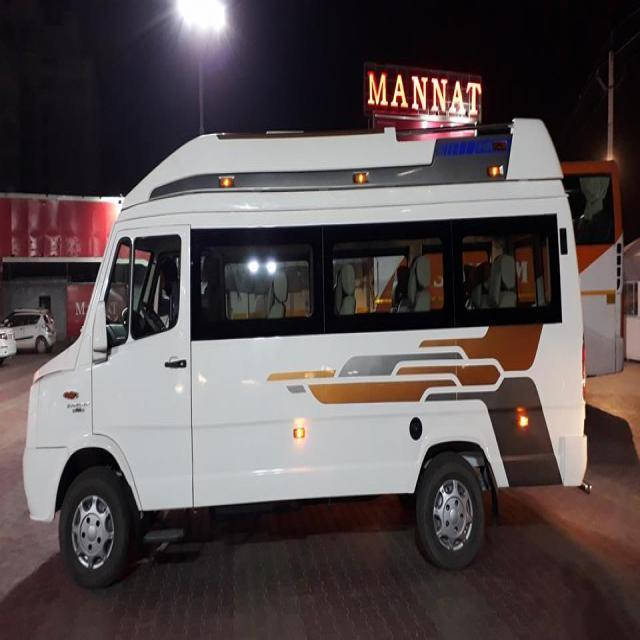Ambulance: (18, 76, 594, 596), (0, 338, 638, 636), (0, 190, 126, 350), (558, 156, 626, 380), (362, 62, 484, 128), (470, 231, 520, 314), (1, 304, 58, 360)
